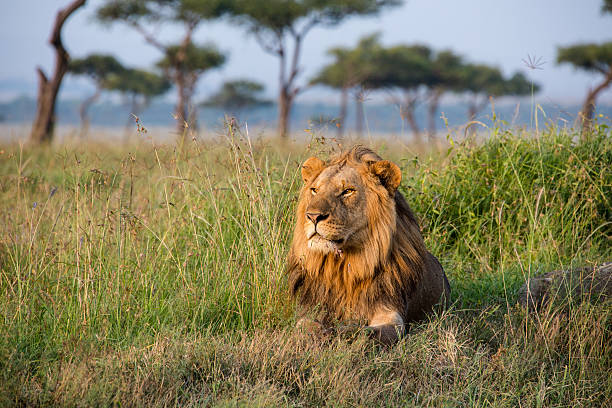lion: (284, 148, 425, 331)
